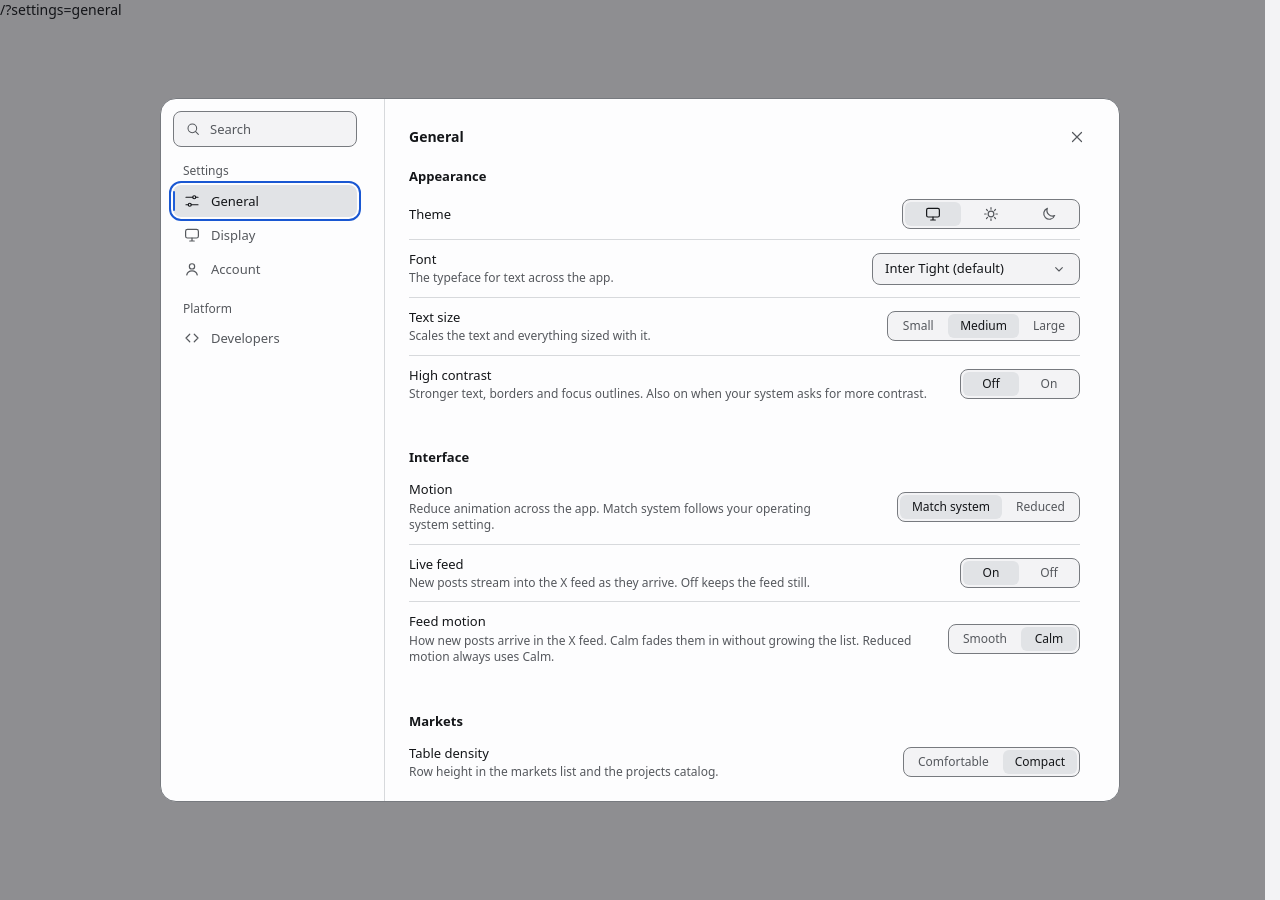
search › matches descriptions and keywords
Type "compact" into the search field.
click(265, 129); type("compact")  # box [173, 111, 357, 147]
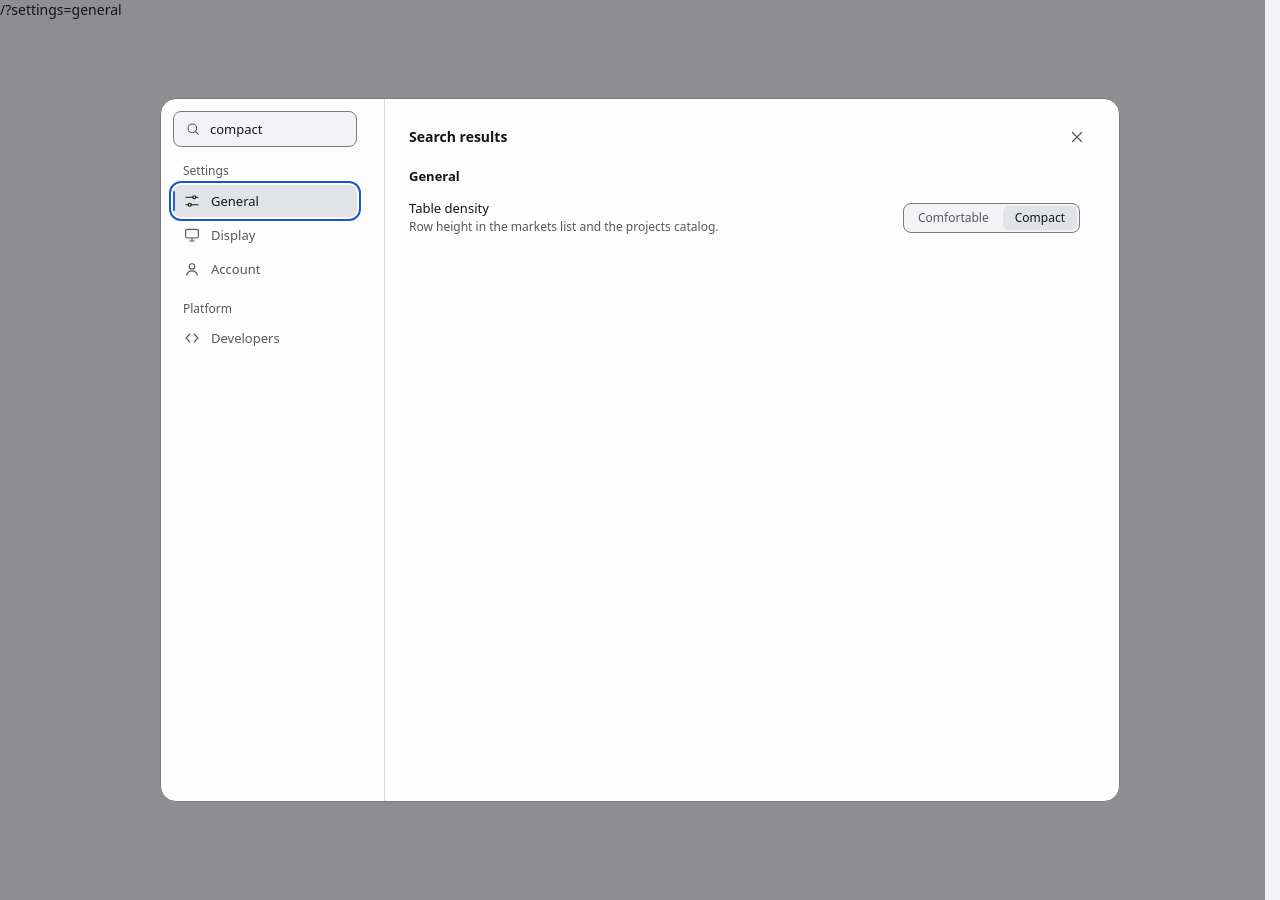
Expected: the element named "Table density" is shown, [903, 202, 1080, 232]
Replace the text in the search field with "log out" at (265, 129), box [173, 111, 357, 147]
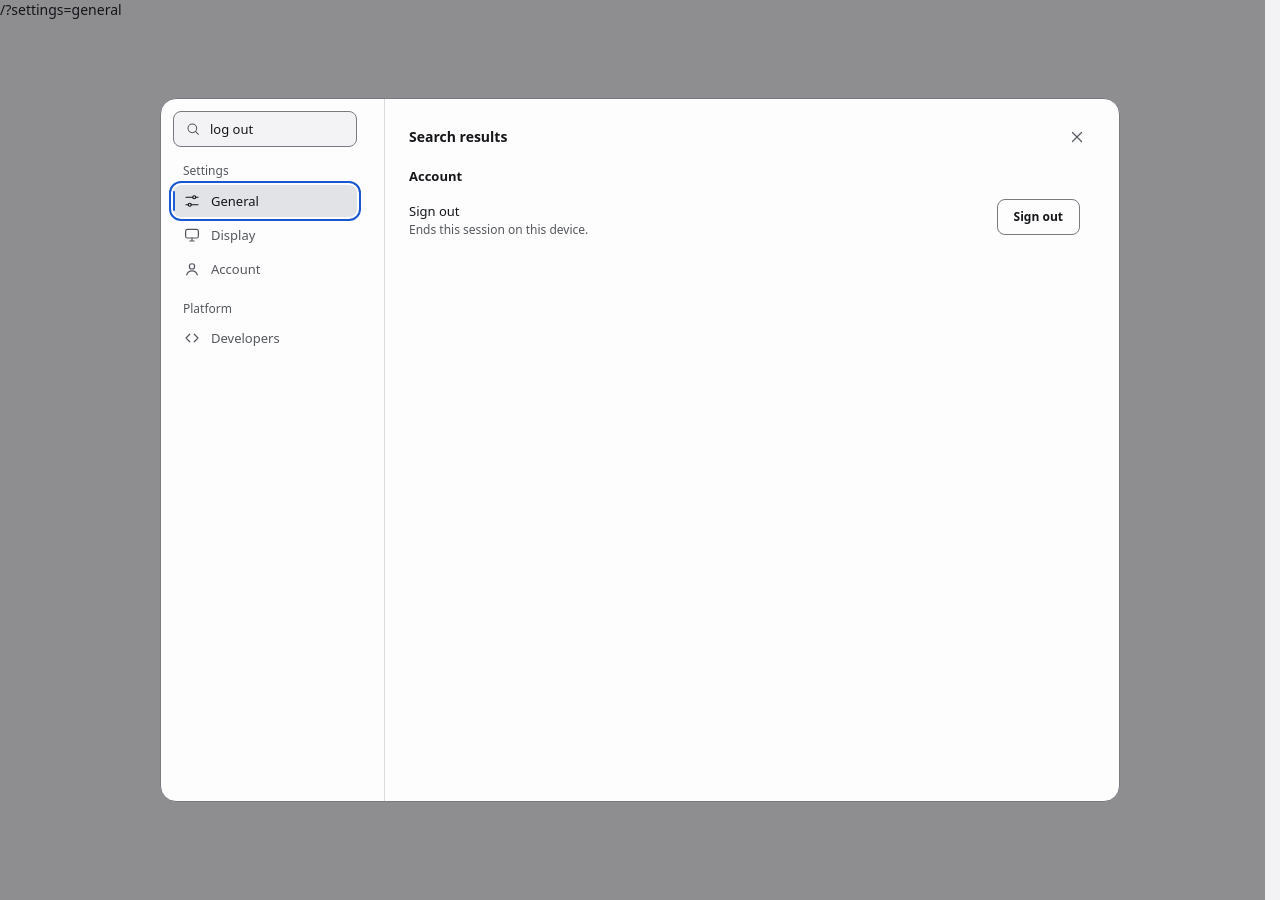
Now the button "Sign out" is shown, box [997, 199, 1080, 235]
Now the text "Table density" is gone
